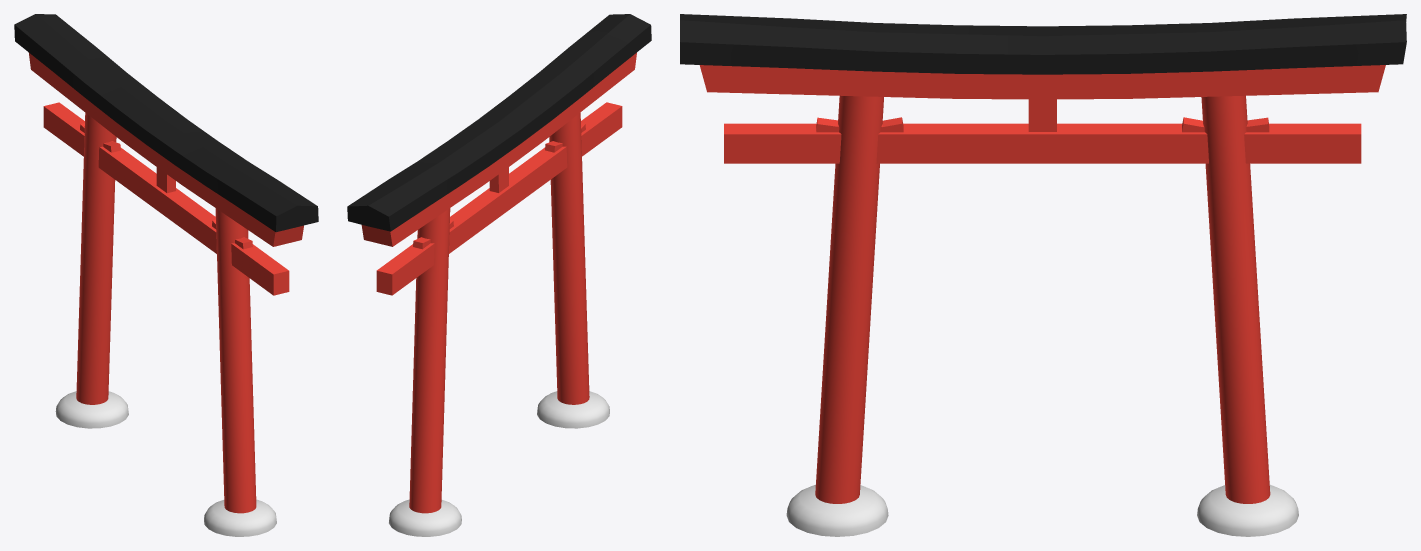
Rendered from uploads_files_2690132_Torii+Gate 1.fbx.
3 views of the same model, side by side, from view 1: azimuth 30°, elevation 25°; view 2: azimuth 150°, elevation 25°; view 3: azimuth 270°, elevation 25° (orthographic). The views are drawn at different scales.
Visible parts, largest first — view 1: Torii Gate; view 2: Torii Gate; view 3: Torii Gate.
Part boxes in pixels (x1,y1,x2,y2): Torii Gate: (14, 14, 318, 536); Torii Gate: (347, 14, 651, 536); Torii Gate: (680, 14, 1406, 536).
Bounding box in the file's own units: 61.83 × 331 × 441.
